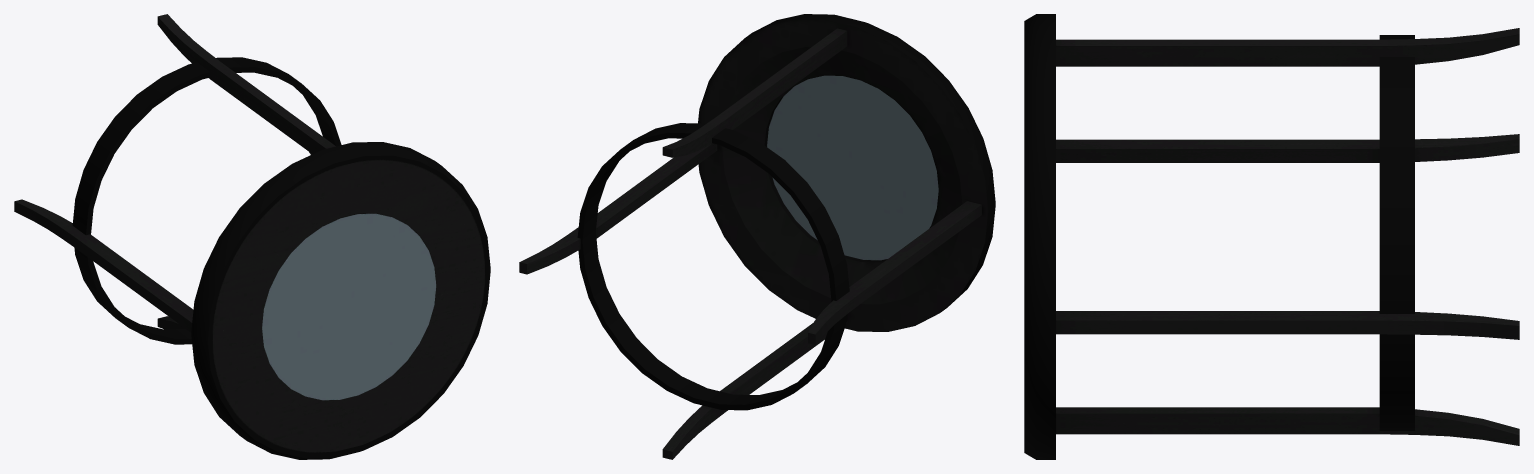
File: dub_lounge_table_03_LOD0.obj
3 renders of one model, left to right at view 1: azimuth 30°, elevation 25°; view 2: azimuth 150°, elevation 25°; view 3: azimuth 270°, elevation 25°, orthographic. The views are drawn at different scales.
Visible parts, largest first — view 1: mtl_dub_lounge_table_01_metal, mtl_dub_lounge_table_01_glass; view 2: mtl_dub_lounge_table_01_metal, mtl_dub_lounge_table_01_glass; view 3: mtl_dub_lounge_table_01_metal.
Boxes of the visible parts, x1,y1,x2,y2 form: mtl_dub_lounge_table_01_metal: (14,14,490,459); mtl_dub_lounge_table_01_glass: (262,213,436,400); mtl_dub_lounge_table_01_metal: (519,14,995,459); mtl_dub_lounge_table_01_glass: (767,75,938,260); mtl_dub_lounge_table_01_metal: (1024,14,1519,459).
Bounding box in the file's own units: 45.62 × 45.62 × 49.74.
